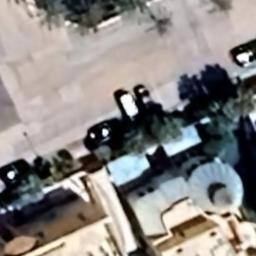sedan: (82, 120, 126, 150), (0, 158, 35, 188), (133, 82, 156, 114)
unknown: (229, 37, 256, 71)
van: (110, 87, 140, 125)
